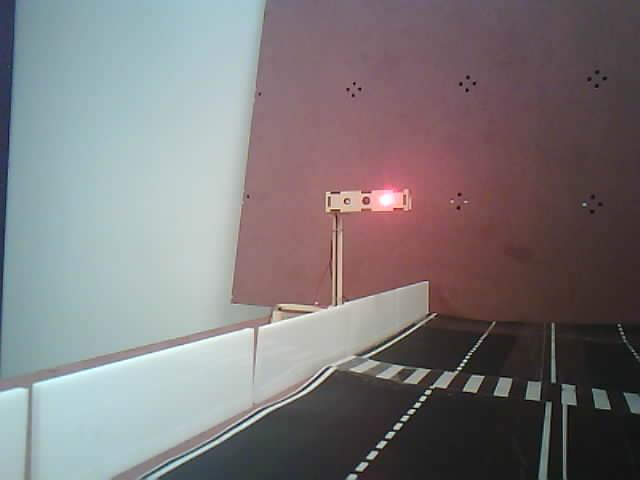crosswalk: (353, 342, 617, 392)
red: (315, 178, 416, 271)
